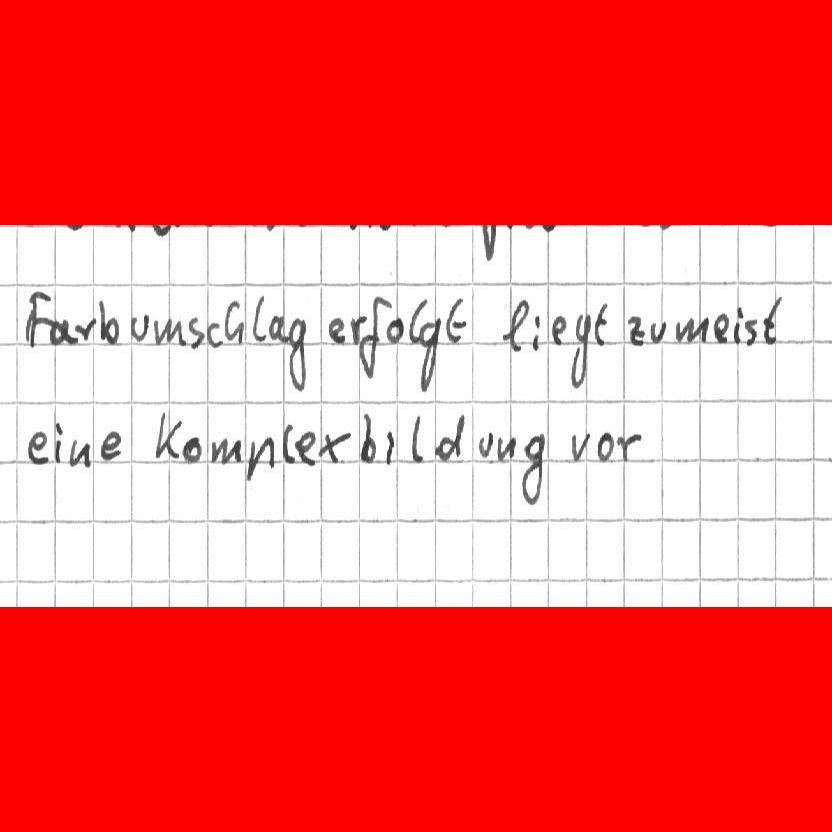Char: (358, 296, 389, 381), (566, 311, 592, 391), (286, 315, 313, 392), (517, 433, 544, 507), (418, 316, 442, 395), (23, 287, 50, 351), (430, 412, 465, 461), (501, 296, 531, 352), (151, 411, 182, 461), (243, 435, 275, 481), (761, 295, 785, 345), (317, 429, 350, 464), (209, 434, 244, 466), (444, 296, 468, 342), (96, 298, 119, 344), (672, 316, 710, 343), (357, 412, 376, 464), (153, 317, 187, 346), (223, 299, 243, 345), (592, 300, 612, 345), (67, 437, 93, 471), (408, 297, 427, 343), (613, 430, 640, 462), (409, 414, 426, 464), (25, 431, 50, 465), (294, 430, 316, 467), (50, 316, 78, 345), (97, 430, 123, 461), (279, 422, 297, 466), (568, 430, 591, 464), (252, 293, 267, 342), (129, 312, 152, 342), (180, 434, 203, 464), (626, 313, 646, 347), (187, 314, 205, 351), (495, 433, 517, 463), (73, 315, 97, 342), (348, 313, 367, 347), (267, 313, 289, 341), (327, 315, 347, 345), (742, 317, 762, 347), (381, 427, 396, 466), (475, 429, 495, 458), (595, 429, 613, 461), (386, 316, 405, 345), (550, 314, 567, 346), (713, 311, 729, 344), (204, 321, 223, 348), (52, 419, 63, 465), (732, 304, 744, 346), (530, 313, 542, 352), (650, 319, 668, 344)
